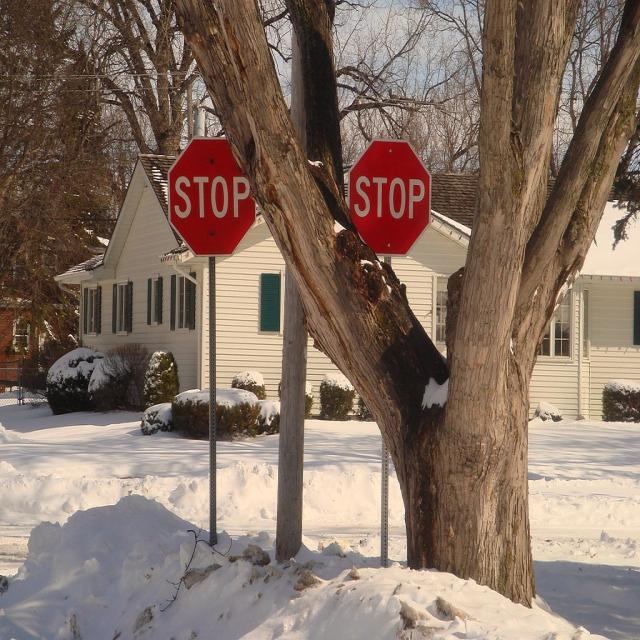Stop-sign: (166, 134, 258, 258), (346, 138, 432, 256)
